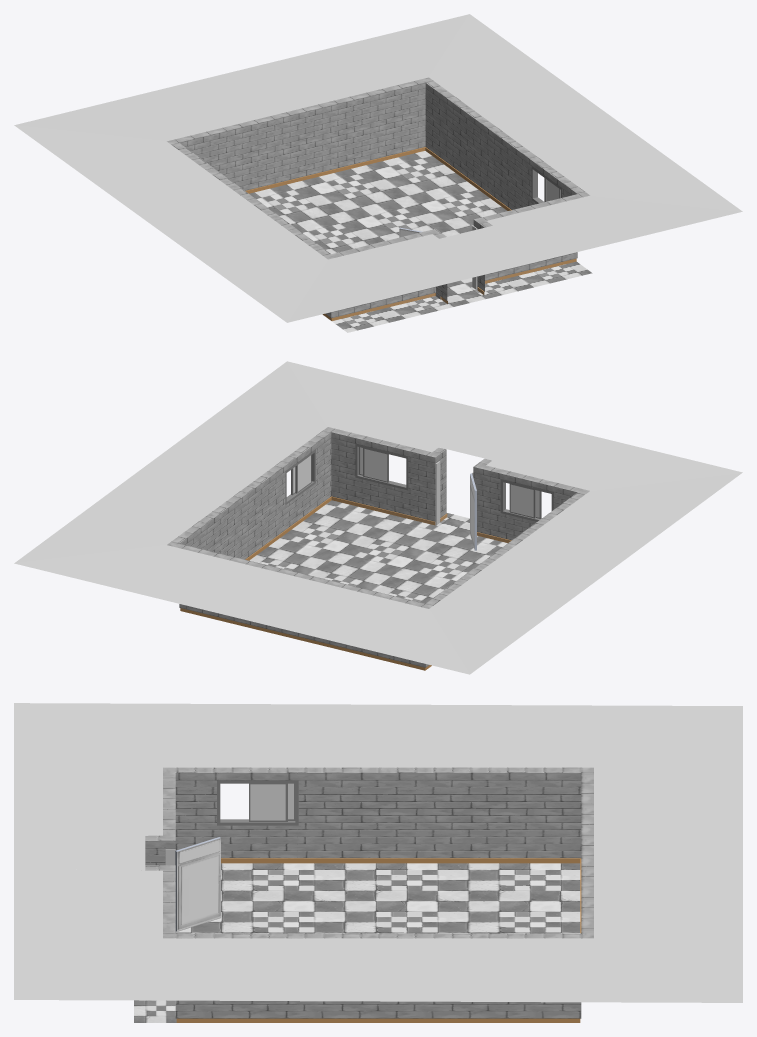
The model's file is Frutera.FBX.
3 views of the same model, one above another, from view 1: azimuth 30°, elevation 25°; view 2: azimuth 150°, elevation 25°; view 3: azimuth 270°, elevation 25° (orthographic). The views are drawn at different scales.
Visible parts, largest first — view 1: Vacio, Paredes, Piso, Ventana; view 2: Vacio, Paredes, Piso, Ventana; view 3: Vacio, Paredes, Piso, Puerta, Ventana.
Part boxes in pixels (bbox=[...]): Vacio: bbox=[14, 14, 742, 322]; Paredes: bbox=[167, 77, 589, 320]; Piso: bbox=[249, 151, 592, 332]; Ventana: bbox=[531, 166, 561, 203]; Vacio: bbox=[14, 361, 742, 674]; Paredes: bbox=[167, 427, 589, 670]; Piso: bbox=[249, 500, 507, 603]; Ventana: bbox=[285, 444, 553, 521]; Vacio: bbox=[14, 703, 742, 1002]; Paredes: bbox=[145, 767, 593, 1022]; Piso: bbox=[134, 863, 580, 1022]; Puerta: bbox=[175, 837, 220, 931]; Ventana: bbox=[217, 780, 298, 825].
Bounding box in the file's own units: 2120 × 2200 × 305.
